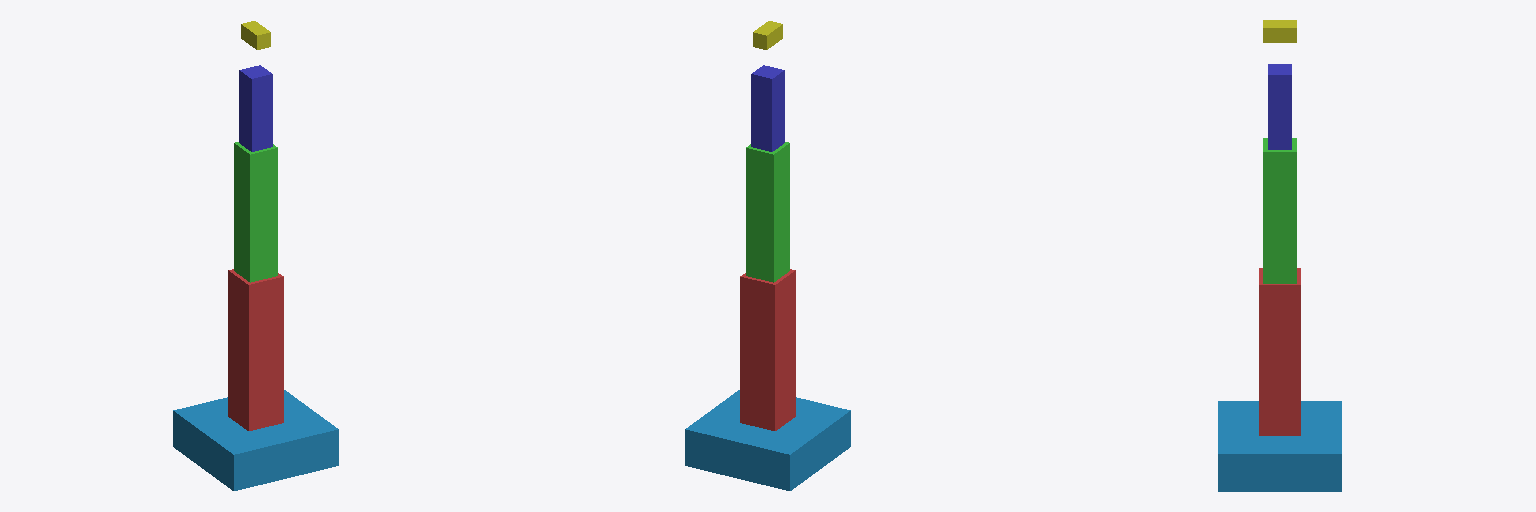
The robot description file, URDF, robot "3dof_robot_arm":
<?xml version="1.0"?>
<robot name="3dof_robot_arm">

  <!-- Materials -->
  <material name="base_color">
    <color rgba="0.2 0.6 0.8 1.0"/>
  </material>
  <material name="link1_color">
    <color rgba="0.8 0.3 0.3 1.0"/>
  </material>
  <material name="link2_color">
    <color rgba="0.3 0.8 0.3 1.0"/>
  </material>
  <material name="link3_color">
    <color rgba="0.3 0.3 0.8 1.0"/>
  </material>
  <material name="gripper_color">
    <color rgba="0.8 0.8 0.2 1.0"/>
  </material>

  <!-- Base Link (fixed to world) -->
  <link name="base_link">
    <visual>
      <geometry>
        <box size="0.3 0.3 0.1"/>
      </geometry>
      <origin xyz="0 0 0" rpy="0 0 0"/>
      <material name="base_color"/>
    </visual>
    <collision>
      <geometry>
        <box size="0.3 0.3 0.1"/>
      </geometry>
      <origin xyz="0 0 0" rpy="0 0 0"/>
    </collision>
    <inertial>
      <mass value="1.0"/>
      <inertia ixx="0.01" ixy="0" ixz="0" iyy="0.01" iyz="0" izz="0.01"/>
    </inertial>
  </link>

  <!-- Joint 1: Base to Link1 (rotation around Z) -->
  <joint name="joint1" type="revolute">
    <parent link="base_link"/>
    <child link="link1"/>
    <origin xyz="0 0 0.05" rpy="0 0 0"/>
    <axis xyz="0 0 1"/>
    <limit lower="-3.14159" upper="3.14159" effort="10.0" velocity="1.0"/>
  </joint>

  <!-- Link 1 -->
  <link name="link1">
    <visual>
      <geometry>
        <box size="0.1 0.1 0.4"/>
      </geometry>
      <origin xyz="0 0 0.2" rpy="0 0 0"/>
      <material name="link1_color"/>
    </visual>
    <collision>
      <geometry>
        <box size="0.1 0.1 0.4"/>
      </geometry>
      <origin xyz="0 0 0.2" rpy="0 0 0"/>
    </collision>
    <inertial>
      <mass value="0.5"/>
      <inertia ixx="0.01" ixy="0" ixz="0" iyy="0.01" iyz="0" izz="0.001"/>
    </inertial>
  </link>

  <!-- Joint 2: Link1 to Link2 (rotation around Y) -->
  <joint name="joint2" type="revolute">
    <parent link="link1"/>
    <child link="link2"/>
    <origin xyz="0 0 0.4" rpy="0 0 0"/>
    <axis xyz="0 1 0"/>
    <limit lower="-2.0" upper="2.0" effort="10.0" velocity="1.0"/>
  </joint>

  <!-- Link 2 -->
  <link name="link2">
    <visual>
      <geometry>
        <box size="0.08 0.08 0.35"/>
      </geometry>
      <origin xyz="0 0 0.175" rpy="0 0 0"/>
      <material name="link2_color"/>
    </visual>
    <collision>
      <geometry>
        <box size="0.08 0.08 0.35"/>
      </geometry>
      <origin xyz="0 0 0.175" rpy="0 0 0"/>
    </collision>
    <inertial>
      <mass value="0.4"/>
      <inertia ixx="0.008" ixy="0" ixz="0" iyy="0.008" iyz="0" izz="0.001"/>
    </inertial>
  </link>

  <!-- Joint 3: Link2 to Link3 (rotation around Y) -->
  <joint name="joint3" type="revolute">
    <parent link="link2"/>
    <child link="link3"/>
    <origin xyz="0 0 0.35" rpy="0 0 0"/>
    <axis xyz="0 1 0"/>
    <limit lower="-2.0" upper="2.0" effort="10.0" velocity="1.0"/>
  </joint>

  <!-- Link 3 (End effector) -->
  <link name="link3">
    <visual>
      <geometry>
        <box size="0.06 0.06 0.2"/>
      </geometry>
      <origin xyz="0 0 0.1" rpy="0 0 0"/>
      <material name="link3_color"/>
    </visual>
    <collision>
      <geometry>
        <box size="0.06 0.06 0.2"/>
      </geometry>
      <origin xyz="0 0 0.1" rpy="0 0 0"/>
    </collision>
    <inertial>
      <mass value="0.2"/>
      <inertia ixx="0.005" ixy="0" ixz="0" iyy="0.005" iyz="0" izz="0.001"/>
    </inertial>
  </link>

  <!-- Optional: Gripper tip for visualization -->
  <link name="gripper_tip">
    <visual>
      <geometry>
        <box size="0.04 0.08 0.04"/>
      </geometry>
      <origin xyz="0 0 0.2" rpy="0 0 0"/>
      <material name="gripper_color"/>
    </visual>
    <collision>
      <geometry>
        <box size="0.04 0.08 0.04"/>
      </geometry>
      <origin xyz="0 0 0.2" rpy="0 0 0"/>
    </collision>
    <inertial>
      <mass value="0.05"/>
      <inertia ixx="0.001" ixy="0" ixz="0" iyy="0.001" iyz="0" izz="0.001"/>
    </inertial>
  </link>

  <!-- Fixed joint for gripper tip -->
  <joint name="gripper_joint" type="fixed">
    <parent link="link3"/>
    <child link="gripper_tip"/>
    <origin xyz="0 0 0.1" rpy="0 0 0"/>
  </joint>

</robot>

--- What the picture shows (computed from the rendered views, not written in the file) ---
Views: 3 orthographic renders of the robot side by side, from view 1: azimuth 30°, elevation 25°; view 2: azimuth 150°, elevation 25°; view 3: azimuth 270°, elevation 25°.
Model 3dof_robot_arm with 5 links and 4 joints (3 revolute, 1 fixed), rooted at base_link, posed every joint at zero.
Visible links, largest first — view 1: base_link, link1, link2, link3, gripper_tip; view 2: base_link, link1, link2, link3, gripper_tip; view 3: base_link, link1, link2, link3, gripper_tip.
Link boxes in pixels (x1,y1,x2,y2): base_link: (173, 390, 338, 490); link1: (228, 269, 283, 430); link2: (234, 142, 277, 282); link3: (239, 65, 272, 151); gripper_tip: (241, 21, 270, 49); base_link: (685, 390, 850, 490); link1: (740, 269, 795, 430); link2: (746, 142, 789, 282); link3: (751, 65, 784, 151); gripper_tip: (753, 21, 782, 49); base_link: (1218, 401, 1341, 491); link1: (1259, 268, 1300, 435); link2: (1263, 138, 1296, 283); link3: (1268, 64, 1291, 149); gripper_tip: (1263, 20, 1296, 42).
Size in the robot's own frame: 0.3 by 0.3 by 1.17 metres.
Geometry: primitives only (box / cylinder / sphere), no mesh files.
